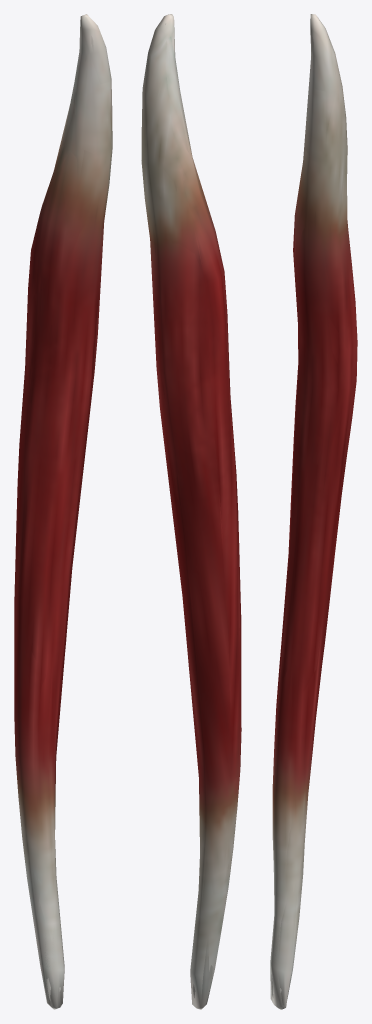
Rendered from L Extensor carpi ulnaris.fbx.
The picture shows the model from 3 angles, left to right: view 1: azimuth 30°, elevation 25°; view 2: azimuth 210°, elevation 25°; view 3: azimuth 330°, elevation 25°; orthographic projection.
Parts seen in each view (by area): view 1: L Extensor carpi ulnaris low, L Extensor carpi ulnaris, L Extensor carpi ulnaris high; view 2: L Extensor carpi ulnaris, L Extensor carpi ulnaris low, L Extensor carpi ulnaris high; view 3: L Extensor carpi ulnaris low, L Extensor carpi ulnaris, L Extensor carpi ulnaris high.
Part boxes in pixels (box(x1,y1,x2,y2)): L Extensor carpi ulnaris low: box(14, 14, 112, 1007); L Extensor carpi ulnaris: box(14, 14, 112, 1009); L Extensor carpi ulnaris high: box(18, 36, 109, 1001); L Extensor carpi ulnaris: box(141, 14, 241, 1009); L Extensor carpi ulnaris low: box(148, 14, 241, 1007); L Extensor carpi ulnaris high: box(145, 21, 236, 997); L Extensor carpi ulnaris low: box(270, 15, 356, 1007); L Extensor carpi ulnaris: box(270, 14, 357, 1009); L Extensor carpi ulnaris high: box(271, 21, 353, 997).
Size of the model in its own units: 0.8985 by 10.92 by 0.8584.
